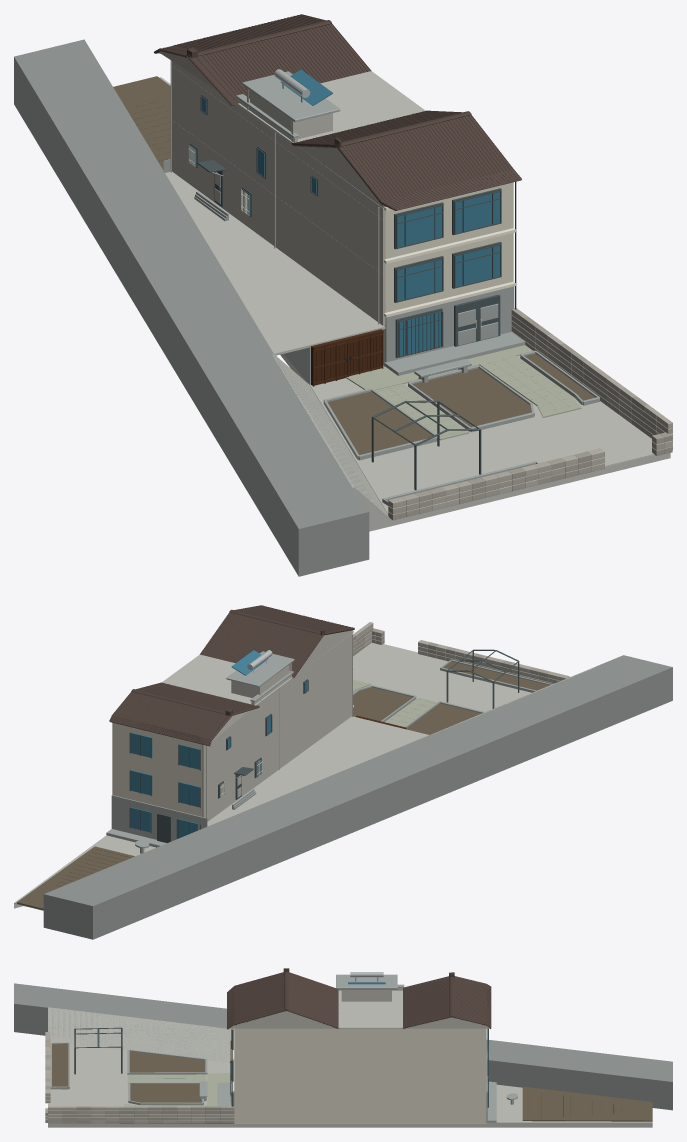
The model's file is home.glb.
The picture shows the model from 3 angles, top to bottom: view 1: azimuth 30°, elevation 25°; view 2: azimuth 150°, elevation 25°; view 3: azimuth 270°, elevation 25°; orthographic projection. The views are drawn at different scales.
Visible parts, largest first — view 1: Road concrete, Clean concrete, Roadside fine grey plaster.001, V6 muted dark clay tiles, Planting soil, Grey marble ground floor, Blue reflective glazing.001, Dark aluminium.001, Sage paving, Grey marble ground floor.001, Warm ivory facade, Roadside fine grey plaster (+8 smaller); view 2: Road concrete, Clean concrete, Roadside fine grey plaster.001, V6 muted dark clay tiles, Planting soil, Grey marble ground floor, Warm ivory facade, Blue reflective glazing, Dark aluminium, Roadside fine grey plaster, Sage paving, Granite 1 (+3 smaller); view 3: Warm ivory facade, Clean concrete, Road concrete, V6 muted dark clay tiles, Planting soil, Grey marble ground floor, Roadside fine grey plaster, Sage paving, Granite 3, Granite 4, Granite 1, Granite 0 (+4 smaller).
Boxes of the visible parts, bbox=[...] form: Road concrete: bbox=[14, 39, 369, 576]; Clean concrete: bbox=[159, 71, 670, 531]; Roadside fine grey plaster.001: bbox=[170, 60, 385, 325]; V6 muted dark clay tiles: bbox=[154, 14, 521, 210]; Planting soil: bbox=[113, 76, 595, 500]; Grey marble ground floor: bbox=[163, 71, 599, 518]; Blue reflective glazing.001: bbox=[190, 97, 500, 355]; Dark aluminium.001: bbox=[189, 94, 501, 357]; Sage paving: bbox=[346, 345, 581, 440]; Grey marble ground floor.001: bbox=[172, 66, 525, 375]; Warm ivory facade: bbox=[382, 182, 513, 365]; Roadside fine grey plaster: bbox=[159, 51, 391, 209]; Road concrete: bbox=[43, 655, 672, 939]; Clean concrete: bbox=[14, 643, 594, 910]; Roadside fine grey plaster.001: bbox=[202, 633, 352, 821]; V6 muted dark clay tiles: bbox=[109, 605, 354, 746]; Planting soil: bbox=[16, 661, 549, 909]; Grey marble ground floor: bbox=[106, 651, 593, 853]; Warm ivory facade: bbox=[112, 722, 201, 816]; Blue reflective glazing: bbox=[130, 650, 267, 838]; Dark aluminium: bbox=[129, 649, 519, 842]; Roadside fine grey plaster: bbox=[211, 630, 352, 741]; Sage paving: bbox=[353, 679, 437, 726]; Granite 1: bbox=[353, 629, 554, 683]; Warm ivory facade: bbox=[234, 1028, 486, 1122]; Clean concrete: bbox=[48, 990, 652, 1127]; Road concrete: bbox=[14, 983, 672, 1110]; V6 muted dark clay tiles: bbox=[227, 968, 491, 1029]; Planting soil: bbox=[52, 1044, 652, 1121]; Grey marble ground floor: bbox=[48, 974, 517, 1122]; Roadside fine grey plaster: bbox=[228, 987, 489, 1029]; Sage paving: bbox=[124, 1073, 230, 1106]; Granite 3: bbox=[45, 1031, 219, 1123]; Granite 4: bbox=[45, 1047, 234, 1123]; Granite 1: bbox=[45, 1039, 234, 1123]; Granite 0: bbox=[45, 1055, 234, 1123].
Size of the model in its own units: 25.19 by 12.46 by 60.1.
